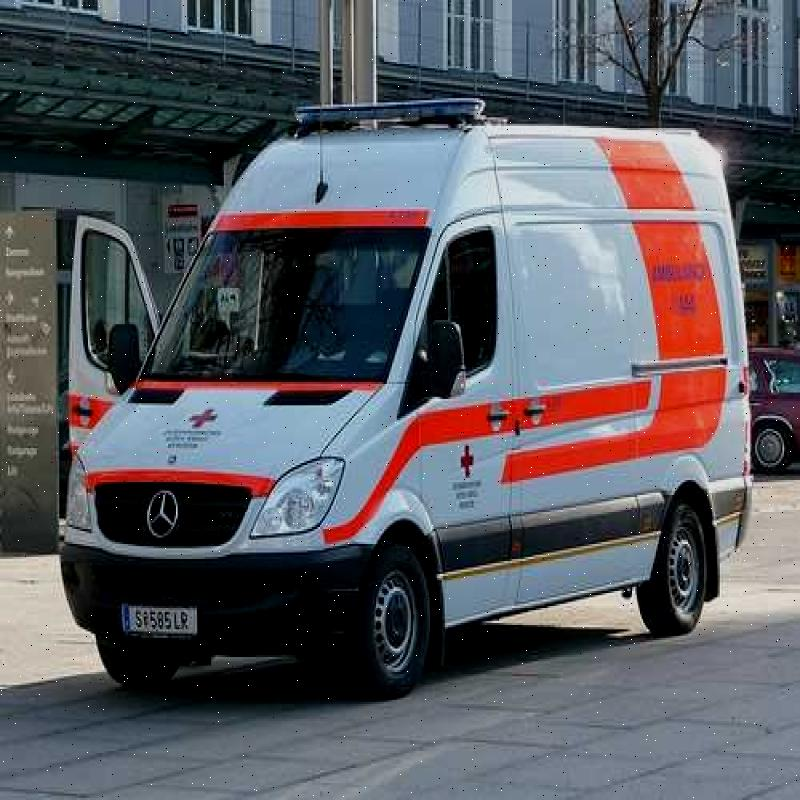AmbulanceSiren: (291, 77, 484, 148)
